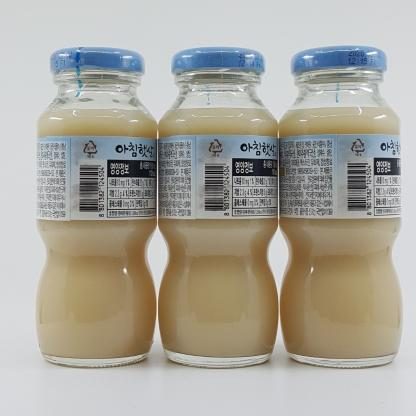------180ML: (278, 46, 403, 368), (35, 47, 158, 367), (158, 47, 279, 368)
